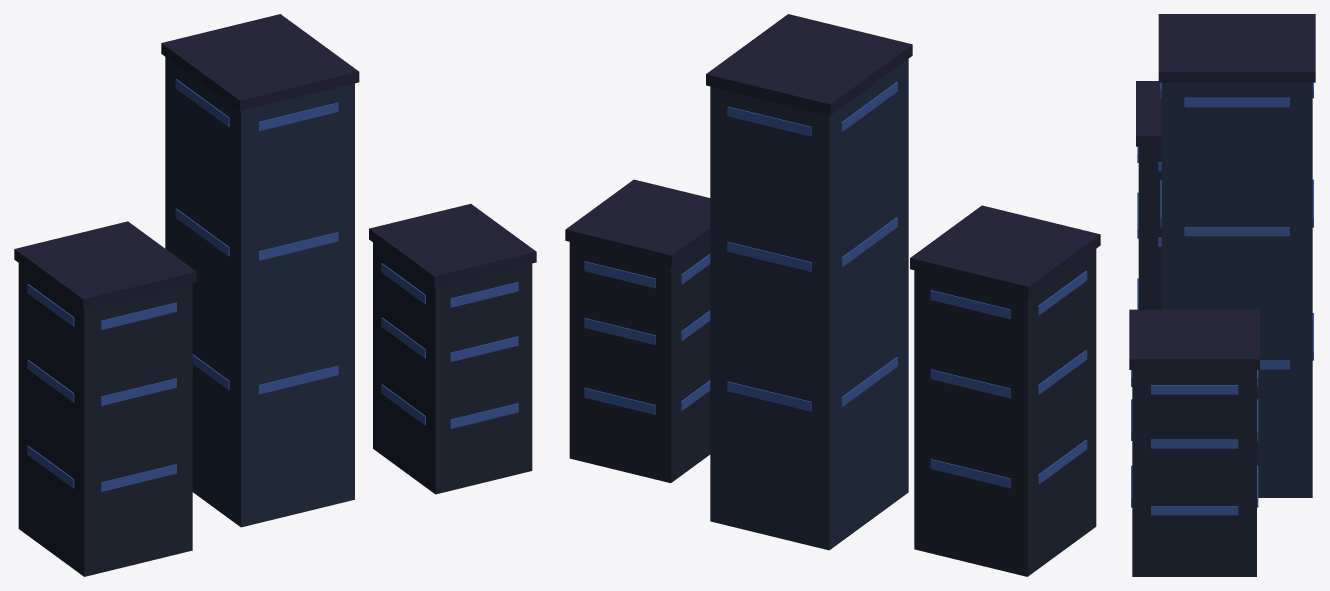
Rendered from Neon_SkylineBlock_Simple.glb.
3 views of the same model, side by side, from view 1: azimuth 30°, elevation 25°; view 2: azimuth 150°, elevation 25°; view 3: azimuth 270°, elevation 25° (orthographic). The views are drawn at different scales.
Visible parts, largest first — view 1: Neon_SkylineBlock_Simple; view 2: Neon_SkylineBlock_Simple; view 3: Neon_SkylineBlock_Simple.
Boxes of the visible parts, <box> form: Neon_SkylineBlock_Simple: <box>14,14,536,576</box>; Neon_SkylineBlock_Simple: <box>565,14,1100,576</box>; Neon_SkylineBlock_Simple: <box>1129,14,1315,576</box>.
Bounding box in the file's own units: 15.78 × 14.36 × 5.68.
